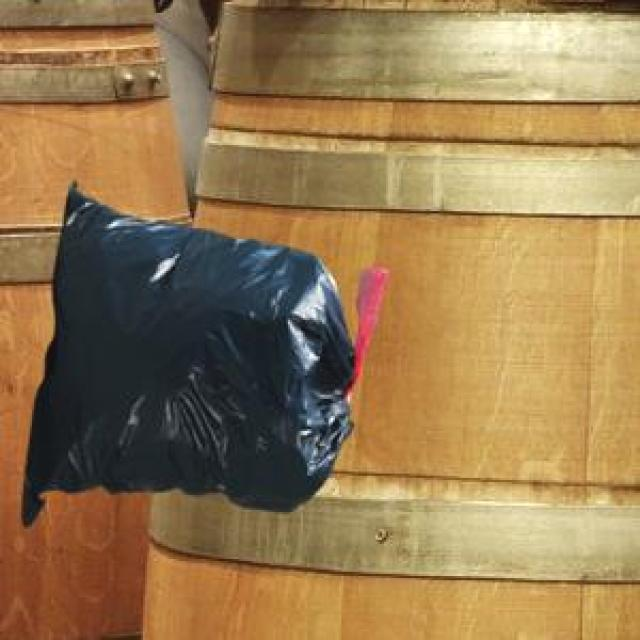Trashbag: (15, 175, 369, 538)
